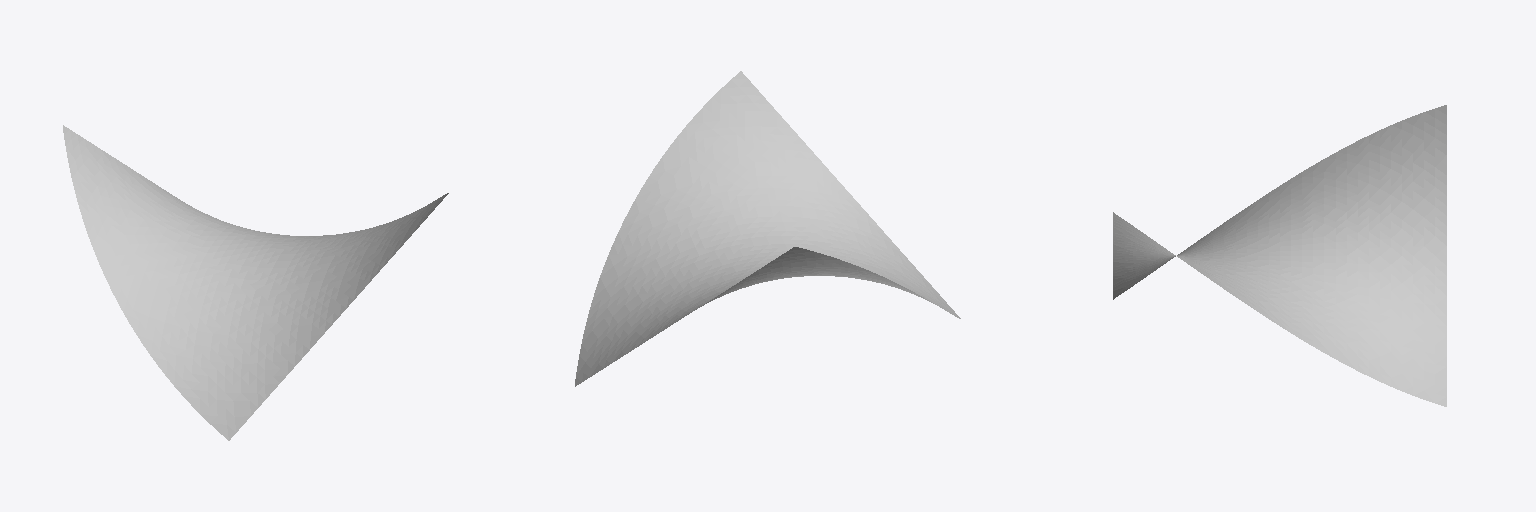
File: plane_twist.obj
3 renders of one model, left to right at view 1: azimuth 30°, elevation 25°; view 2: azimuth 150°, elevation 25°; view 3: azimuth 270°, elevation 25°, orthographic.
Parts seen in each view (by area): view 1: Grid; view 2: Grid; view 3: Grid.
Part boxes in pixels (x1,y1,x2,y2): Grid: (63,125,448,440); Grid: (575,71,960,386); Grid: (1113,105,1446,406).
Size of the model in its own units: 1.86 by 1.2 by 1.86.